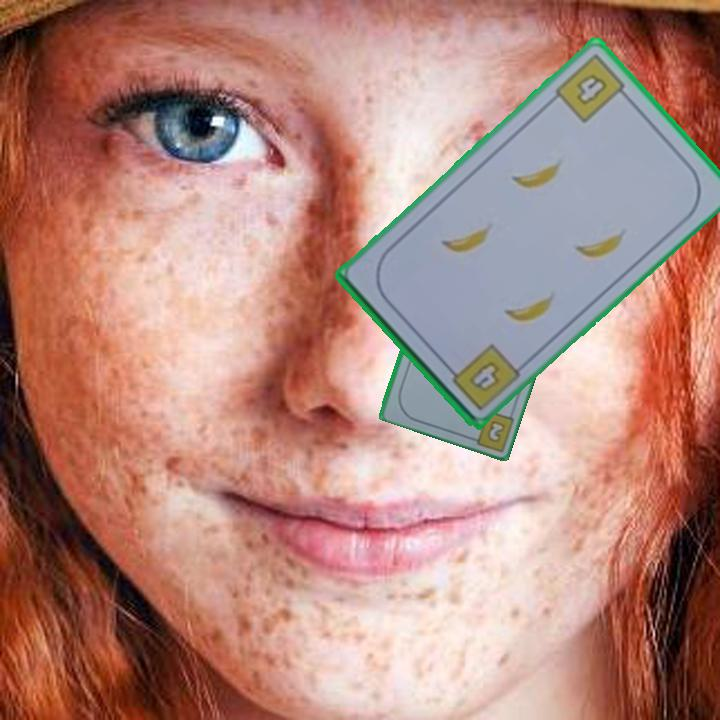2b: (483, 416, 508, 445)
4b: (551, 50, 633, 126), (441, 339, 523, 414)
